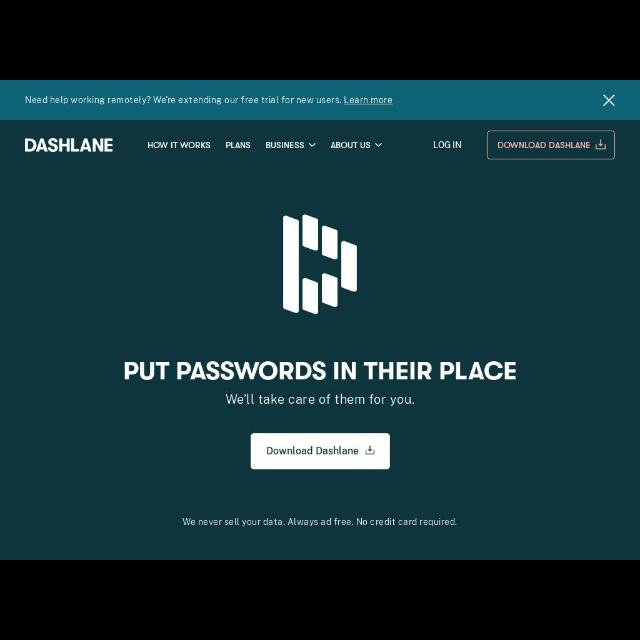icon: (602, 93, 616, 107), (596, 140, 606, 150), (366, 445, 374, 455), (373, 142, 382, 148), (308, 142, 316, 148)
iframe: (1, 80, 640, 120)
image: (282, 213, 358, 315)
multitab: (146, 140, 464, 150)
spinner: (331, 141, 384, 149), (266, 141, 316, 149)
text: (124, 362, 516, 381), (25, 96, 393, 105), (226, 394, 414, 406), (182, 518, 458, 526), (24, 138, 114, 152), (268, 447, 358, 455), (498, 142, 590, 148), (147, 141, 211, 149), (331, 142, 371, 148), (266, 142, 304, 148), (434, 141, 462, 149), (226, 142, 250, 148)
textbutton: (250, 432, 390, 470), (487, 131, 615, 159)
